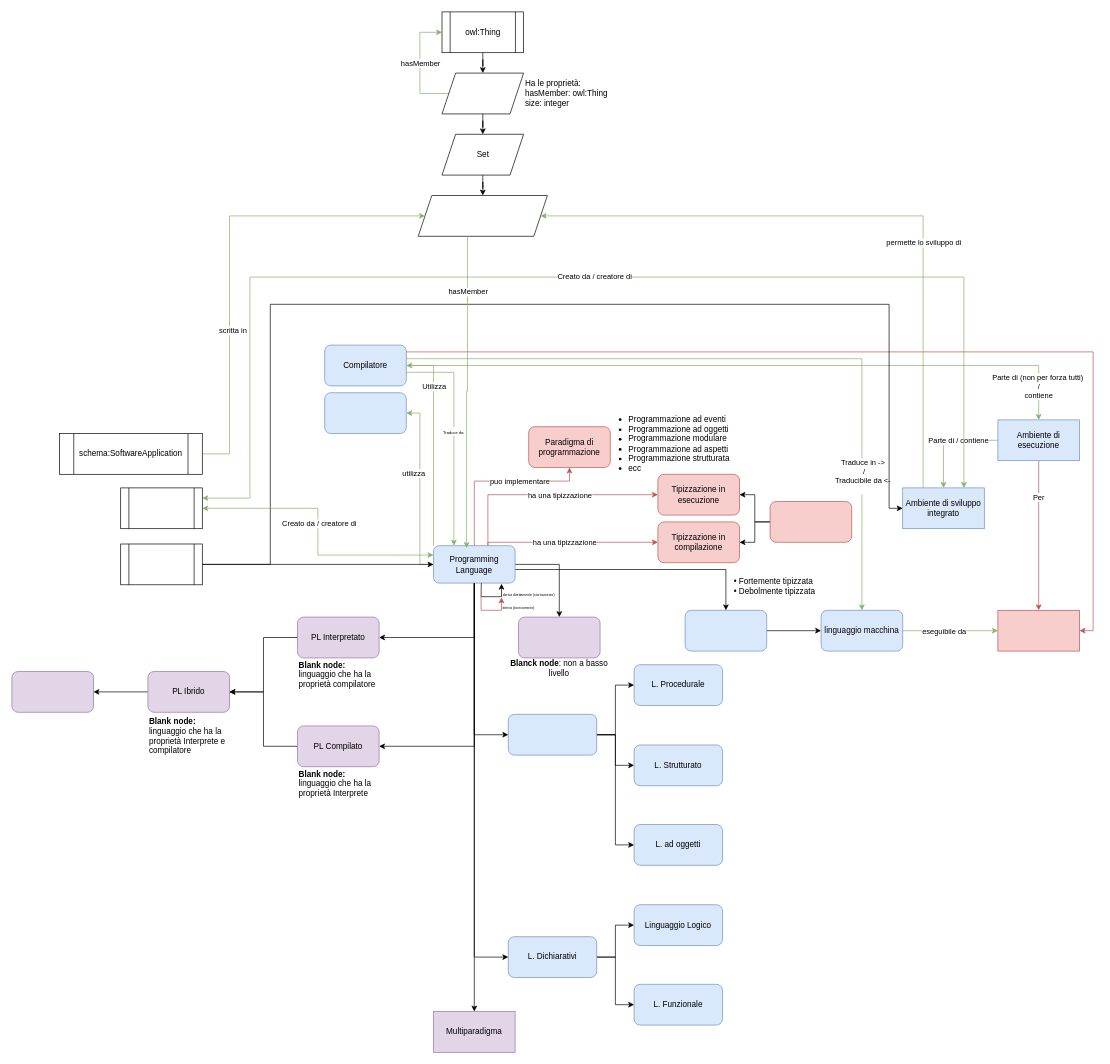
This 1110x1064 diagram has some shape labels left out. The shapes that lost their labels are listed below. From the top down, each one's centre as x and y in pixels, then its label:
At (482,93): "CollectionEntity".
At (482,215): "ProgramminLanguageSet".
At (365,413): "Interprete".
At (161,508): "foaf:Agent".
At (810,521): "Tipizzazione".
At (161,564): "schema:Product".
At (559,637): "Alto livello".
At (725,630): "Basso livello".
At (1038,630): "Architettura".
At (52,691): "Semi-compilato".
At (552,734): "L. Imperativo".
